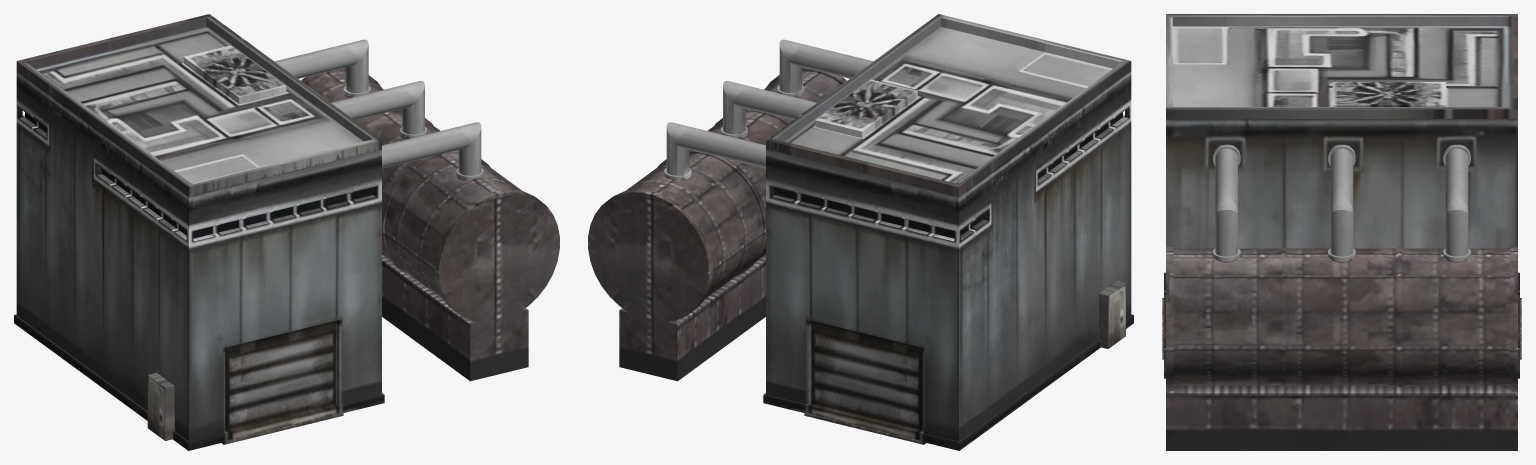
File: valvestation_cad.glb
3 views of the same model, side by side, from view 1: azimuth 30°, elevation 25°; view 2: azimuth 150°, elevation 25°; view 3: azimuth 270°, elevation 25° (orthographic). The views are drawn at different scales.
Visible parts, largest first — view 1: ValveStation; view 2: ValveStation; view 3: ValveStation.
Boxes of the visible parts, bbox=[...] form: ValveStation: bbox=[14, 14, 559, 450]; ValveStation: bbox=[588, 14, 1133, 450]; ValveStation: bbox=[1162, 14, 1521, 450].
Bounding box in the file's own units: 14.34 × 9.54 × 11.5.
1 material, 1 textured.
